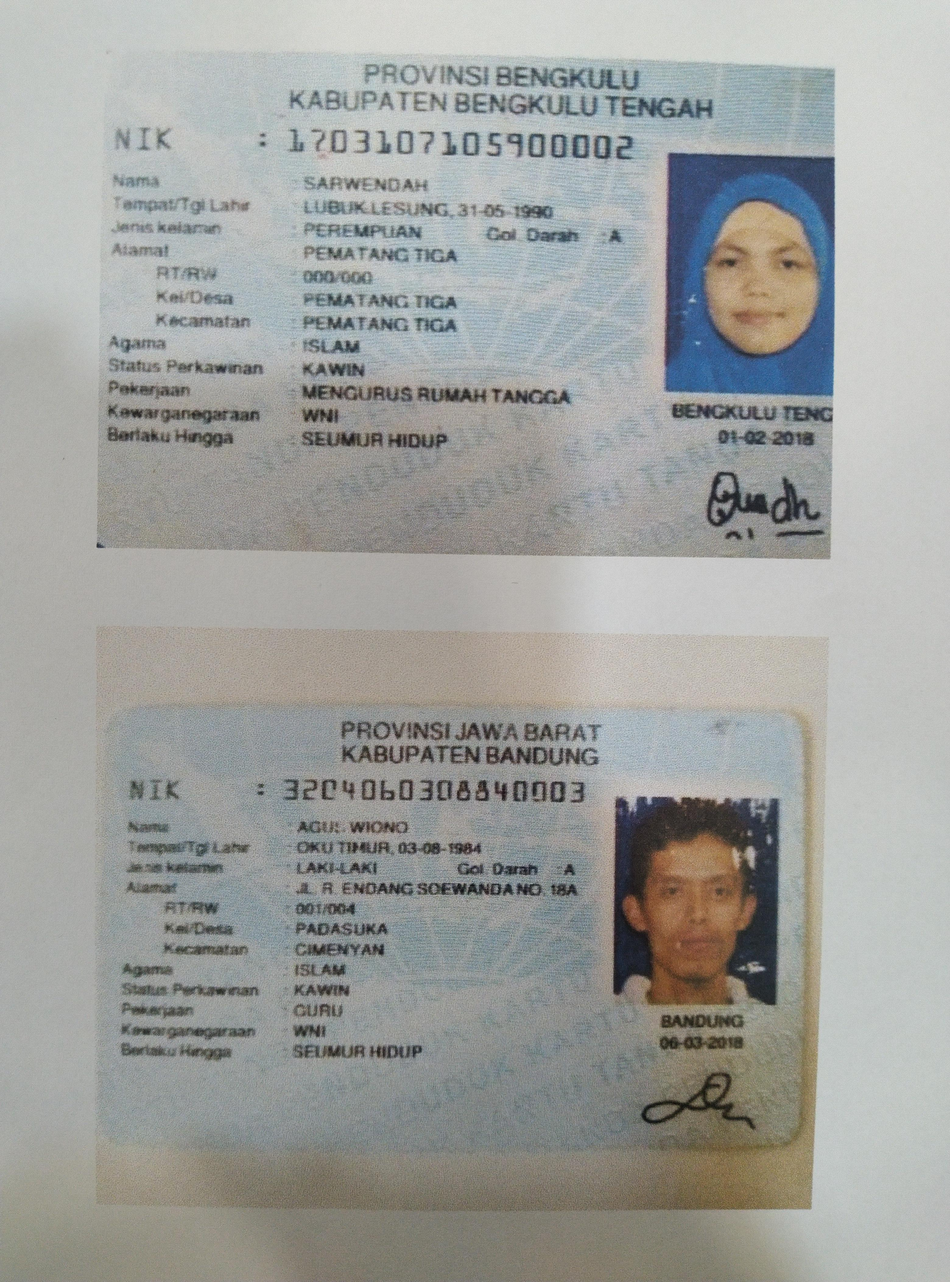ktp: (95, 56, 827, 549), (106, 713, 794, 1140)
